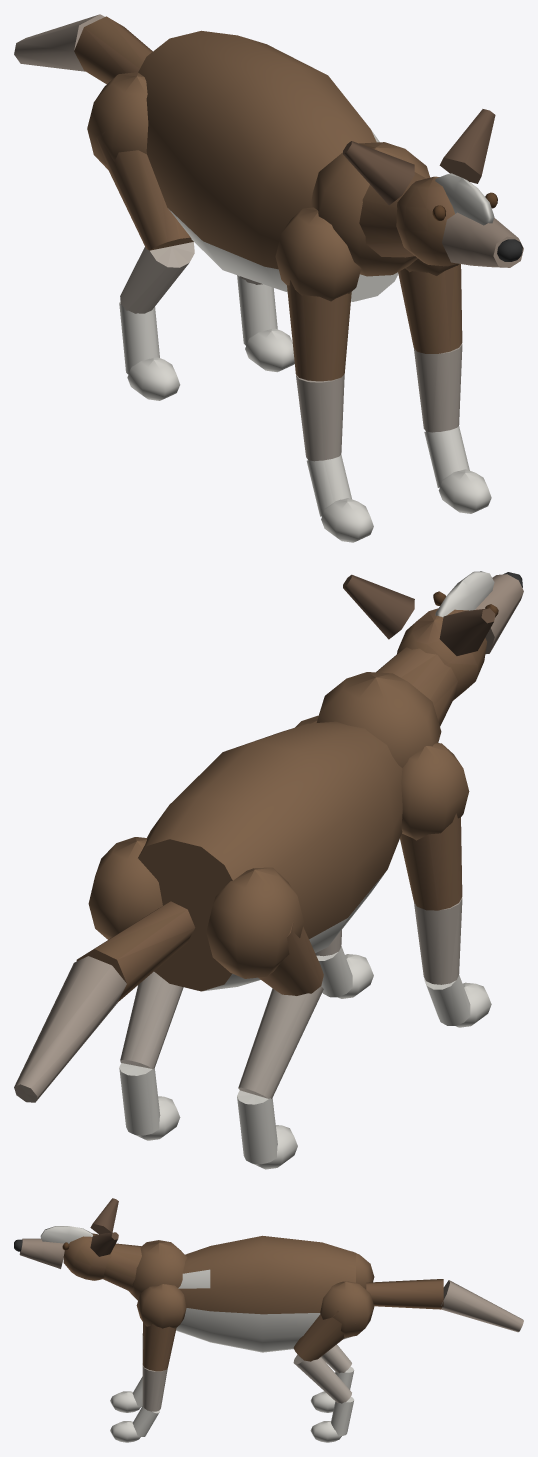
File: biscuit_standing_a.glb
3 views of the same model, one above another, from view 1: azimuth 30°, elevation 25°; view 2: azimuth 150°, elevation 25°; view 3: azimuth 270°, elevation 25° (orthographic). The views are drawn at different scales.
Parts seen in each view (by area): view 1: body; view 2: body; view 3: body.
Boxes of the visible parts, box(x1,y1,x2,y2) form: body: box(14, 14, 523, 542); body: box(14, 571, 523, 1169); body: box(14, 1198, 523, 1442).
Size of the model in its own units: 0.3348 by 0.6614 by 1.45.
